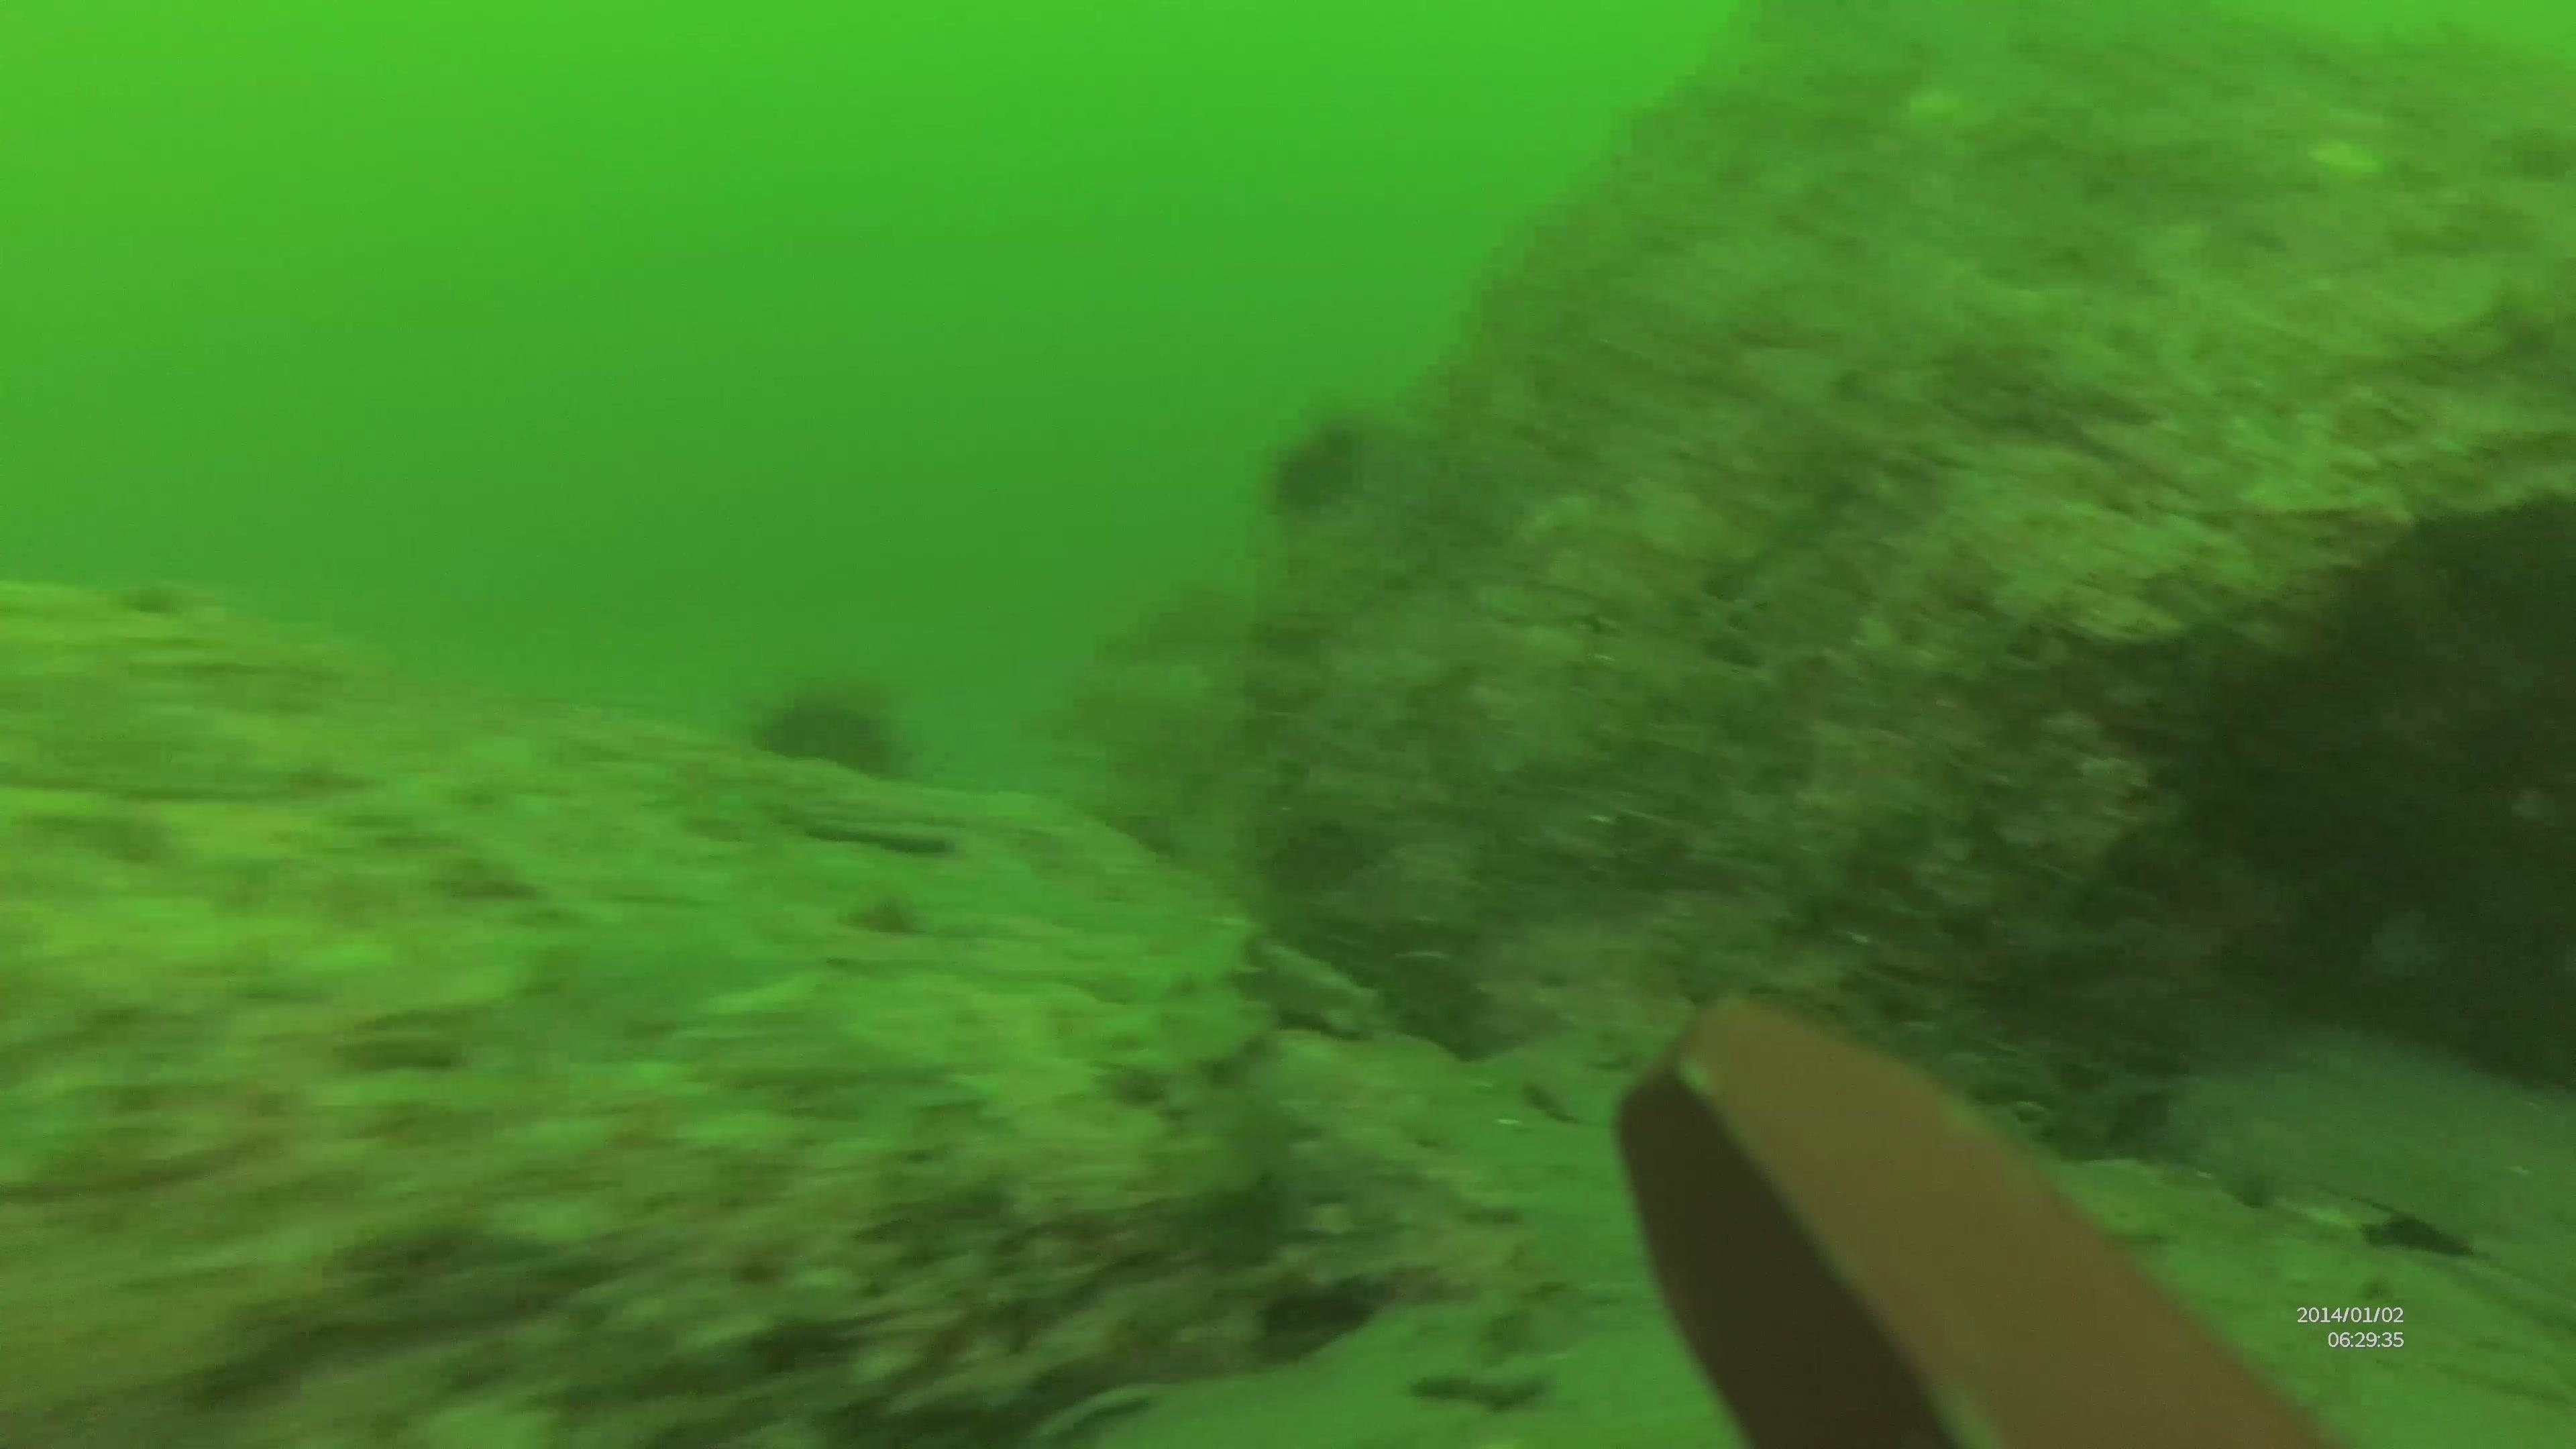echinus: (743, 663, 920, 791), (1253, 398, 1385, 524)
